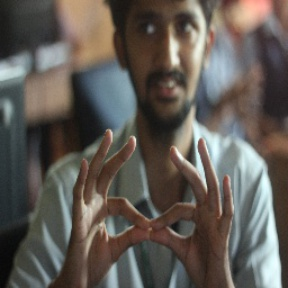B: (96, 169, 203, 273)
